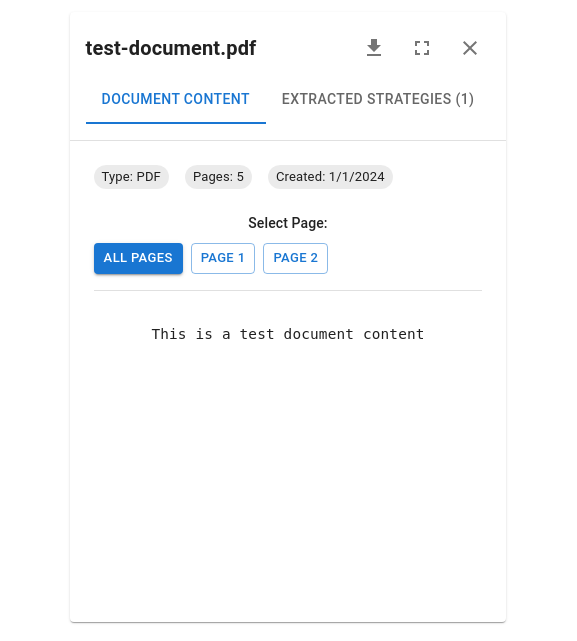
Test: DocumentViewer › should switch between tabs
This screenshot has width=577, height=641.
Expected: the tab "Document Content" is shown, left=86, top=76, right=266, bottom=124
# Click on strategies tab
Click the tab "Extracted Strategies (1)". click: (378, 100)
box: left=266, top=76, right=490, bottom=124
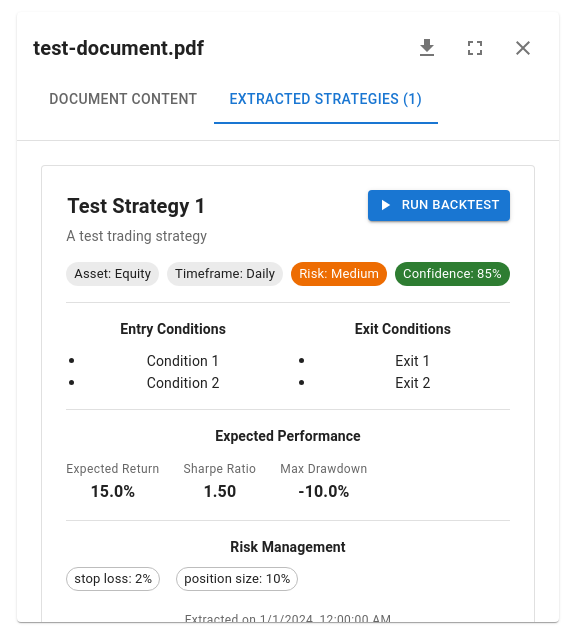
Now the heading "Test Strategy 1" is shown, box left=66, top=190, right=207, bottom=222
Now the text "A test trading strategy" is shown, box left=66, top=226, right=207, bottom=246
